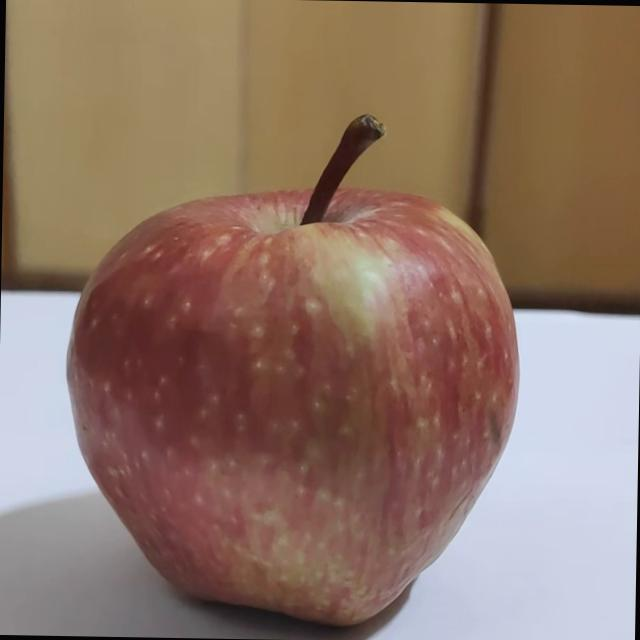apple: (61, 97, 528, 627)
